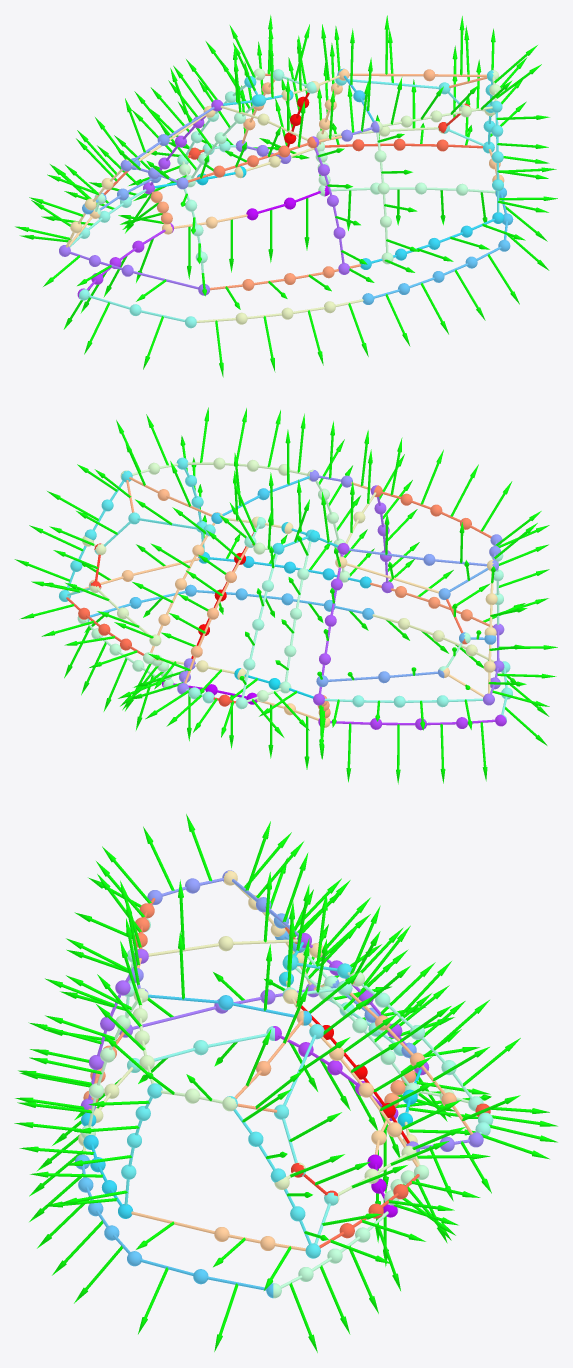
Rendered from ils_speaker.gltf.
The picture shows the model from 3 angles, top to bottom: view 1: azimuth 30°, elevation 25°; view 2: azimuth 150°, elevation 25°; view 3: azimuth 270°, elevation 25°; orthographic projection. The views are drawn at different scales.
Bounding box in the file's own units: 0.9756 × 0.4696 × 0.7105.
